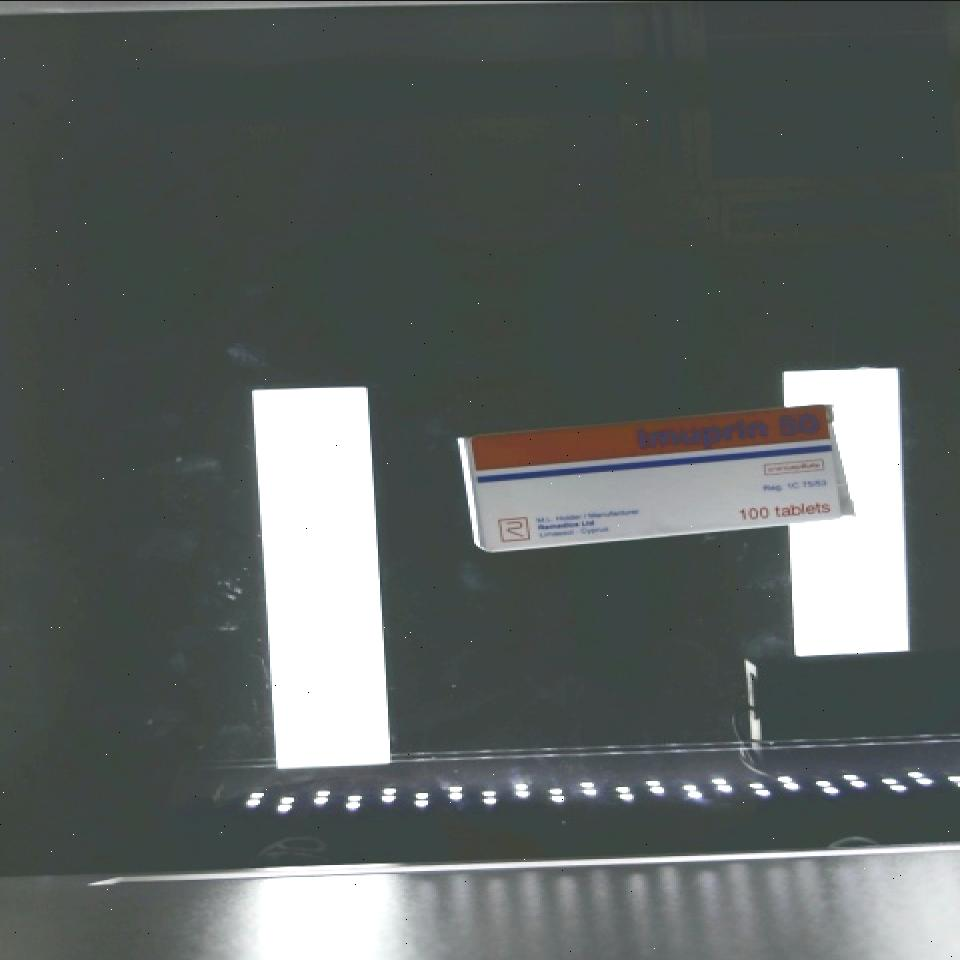medicine_box: (463, 397, 855, 554)
medicine_label_obb: (626, 395, 830, 466)
